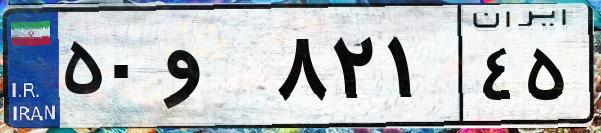0: (110, 28, 158, 98)
1: (385, 28, 445, 110)
2: (330, 28, 385, 110)
4: (475, 38, 525, 113)
5: (57, 26, 110, 100), (525, 38, 570, 115)
8: (270, 28, 330, 110)
و: (158, 20, 270, 120)
